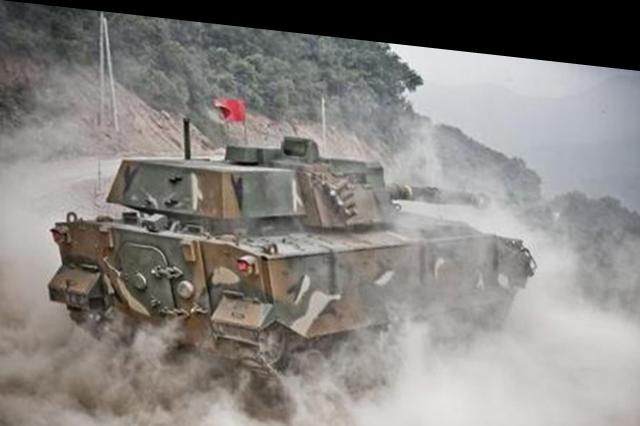tank: (45, 82, 545, 423)
